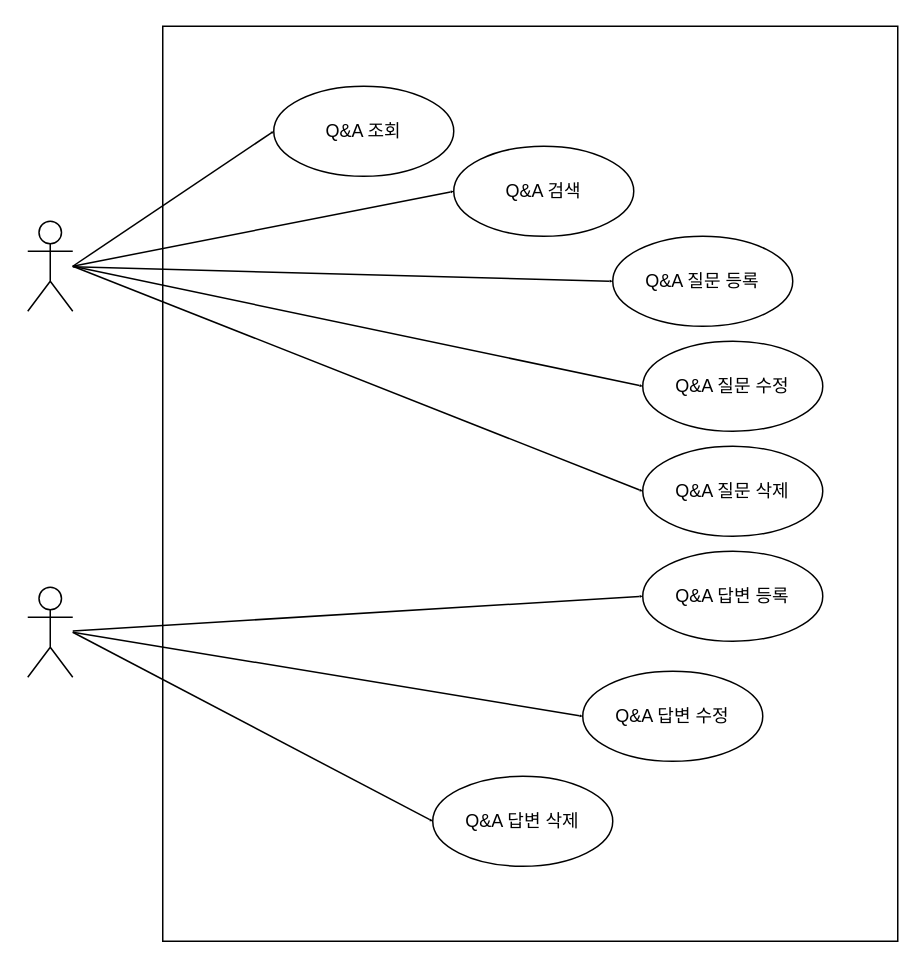
Some shapes in this 924 by 968 pixel diagram are drawn without their labels. Here are the shapes that lost their labels. From the top down, the centre of each, then its label:
At pixel 49 265: "사용자".
At pixel 49 631: "관리자".
